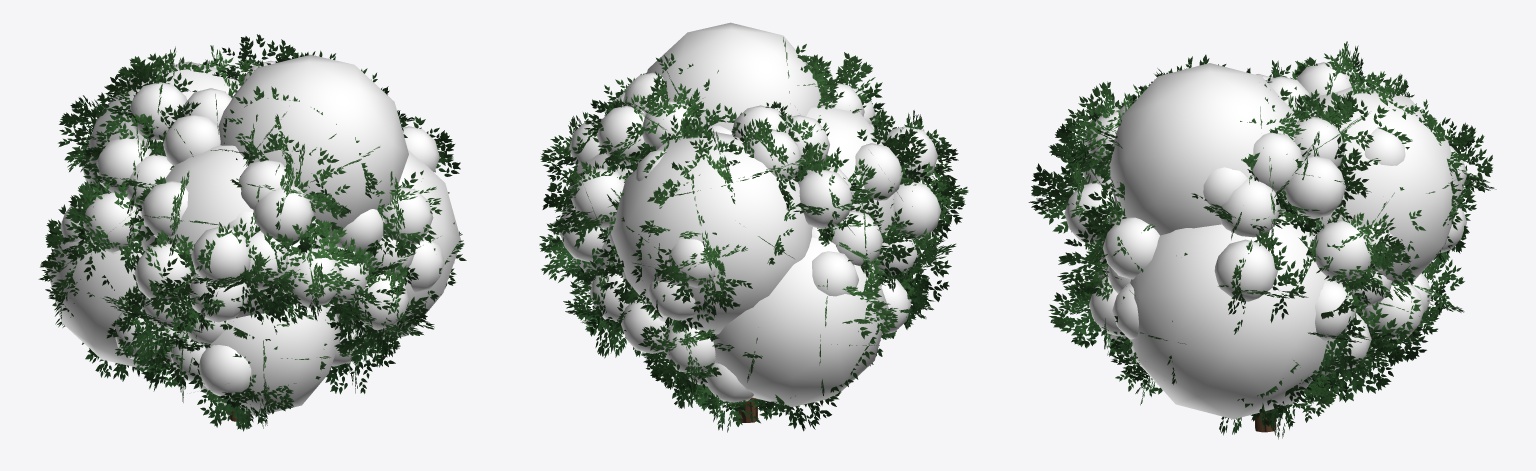
The model's file is bush_dark.gltf.
3 views of the same model, side by side, from view 1: azimuth 30°, elevation 25°; view 2: azimuth 150°, elevation 25°; view 3: azimuth 270°, elevation 25° (orthographic). The views are drawn at different scales.
Parts seen in each view (by area): view 1: bush_dark_shadow_LOD0, bush_dark_leaves_LOD0; view 2: bush_dark_shadow_LOD0, bush_dark_leaves_LOD0; view 3: bush_dark_shadow_LOD0, bush_dark_leaves_LOD0.
Boxes of the visible parts, left/top/right/bottom form: bush_dark_shadow_LOD0: left=47, top=54, right=461, bottom=415; bush_dark_leaves_LOD0: left=38, top=34, right=466, bottom=431; bush_dark_shadow_LOD0: left=560, top=22, right=941, bottom=406; bush_dark_leaves_LOD0: left=539, top=37, right=968, bottom=432; bush_dark_shadow_LOD0: left=1064, top=62, right=1467, bottom=419; bush_dark_leaves_LOD0: left=1028, top=41, right=1496, bottom=439.
Size of what is drawn, in the model's own units: 2.53 by 2.27 by 2.64.
Materials: 3 (2 with a texture image).
